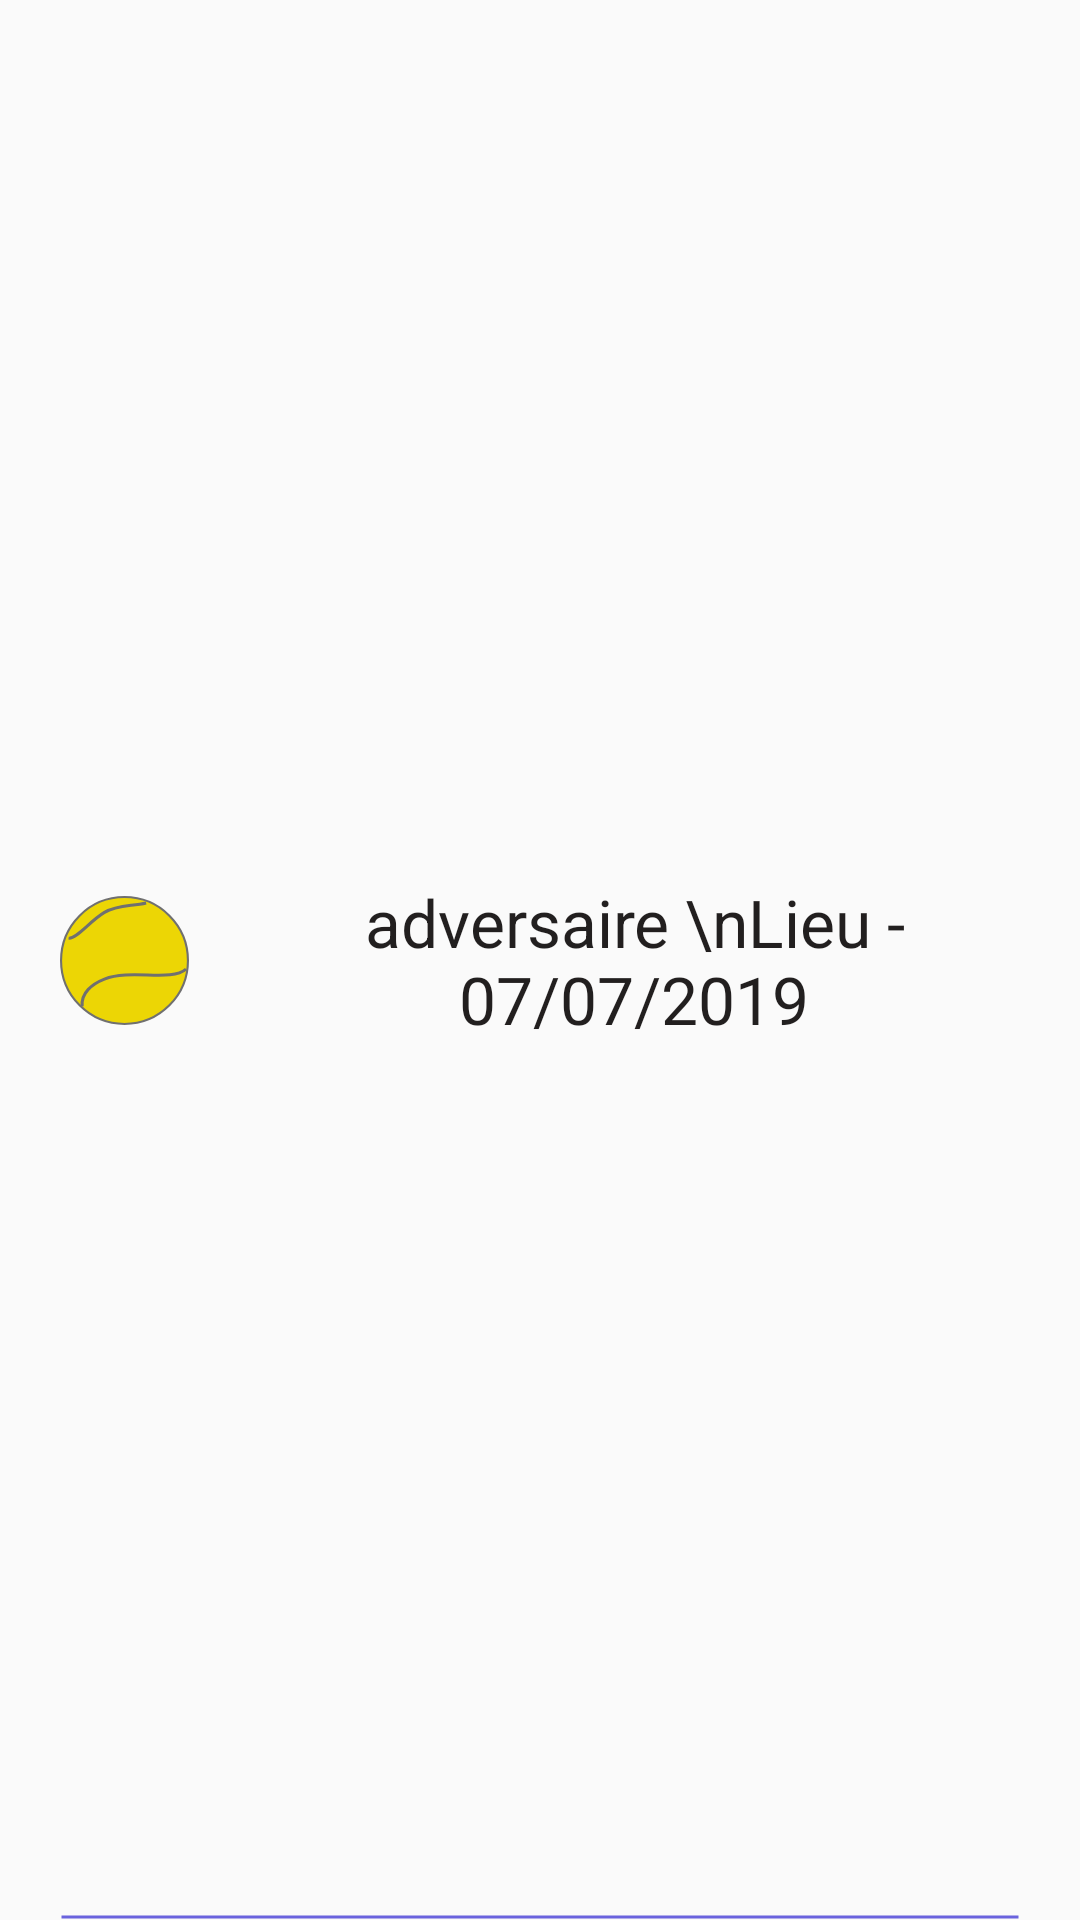

Icons on this 1080w x 1920h Android screen, each with the point to tap as [x,y]:
ball win: [124,960]
